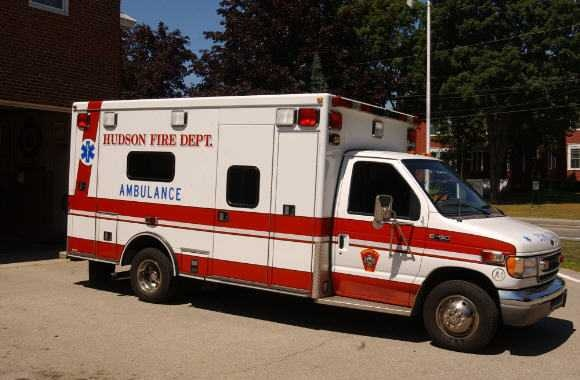Ambulance: (48, 78, 575, 352)
